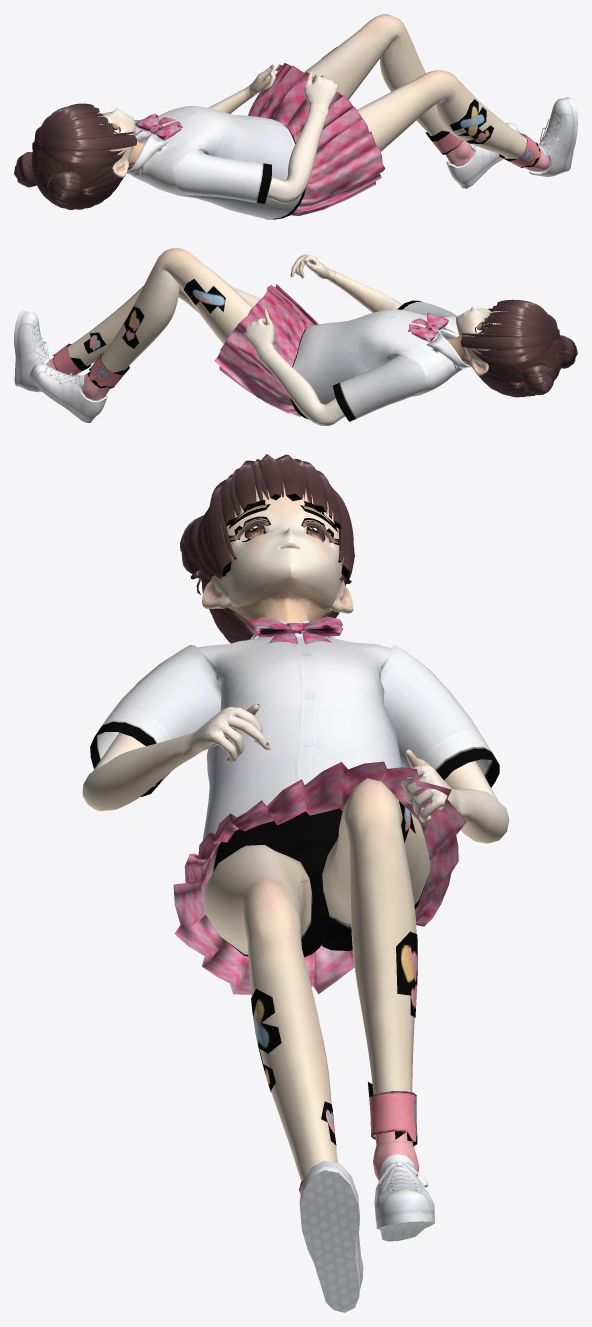
The model's file is friend_rest.glb.
3 renders of one model, top to bottom at view 1: azimuth 30°, elevation 25°; view 2: azimuth 150°, elevation 25°; view 3: azimuth 270°, elevation 25°, orthographic. The views are drawn at different scales.
Parts seen in each view (by area): view 1: RestingFriend_0, RestingFriend_1, RestingFriend_3, RestingFriend_2; view 2: RestingFriend_0, RestingFriend_1, RestingFriend_3, RestingFriend_2; view 3: RestingFriend_0, RestingFriend_1, RestingFriend_2, RestingFriend_3.
Boxes of the visible parts, left/top/right/bottom form: RestingFriend_0: left=110, top=14, right=577, bottom=203; RestingFriend_1: left=126, top=63, right=385, bottom=219; RestingFriend_3: left=14, top=103, right=137, bottom=209; RestingFriend_2: left=97, top=107, right=135, bottom=177; RestingFriend_0: left=14, top=248, right=490, bottom=425; RestingFriend_1: left=214, top=284, right=470, bottom=421; RestingFriend_3: left=460, top=299, right=577, bottom=397; RestingFriend_2: left=456, top=306, right=509, bottom=375; RestingFriend_0: left=82, top=574, right=509, bottom=1312; RestingFriend_1: left=90, top=616, right=499, bottom=994; RestingFriend_2: left=202, top=483, right=353, bottom=613; RestingFriend_3: left=180, top=454, right=354, bottom=643.
Size of the model in its own units: 1.7 by 0.6006 by 0.5933.
4 materials, 4 textured.
